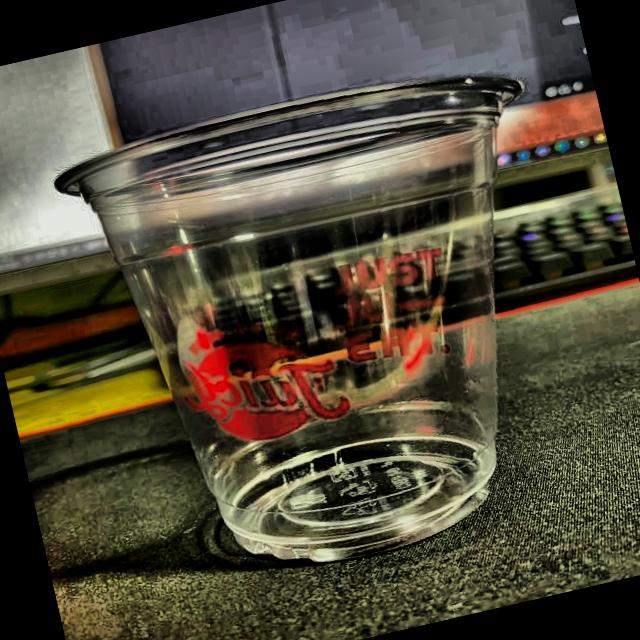plastic cup: (42, 49, 620, 610)
